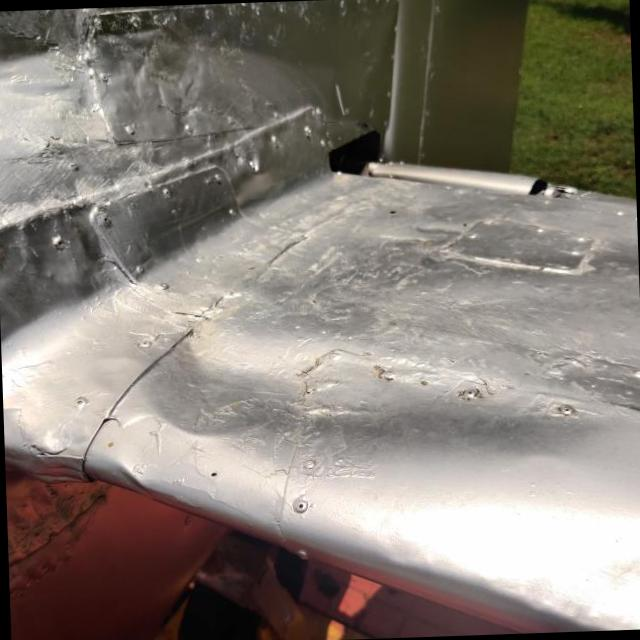Dent: (111, 250, 618, 518)
